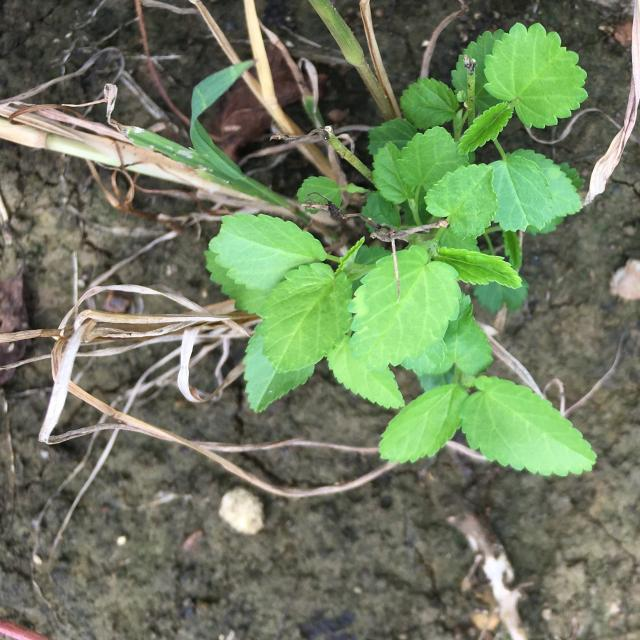PricklySida: (203, 21, 598, 476)
